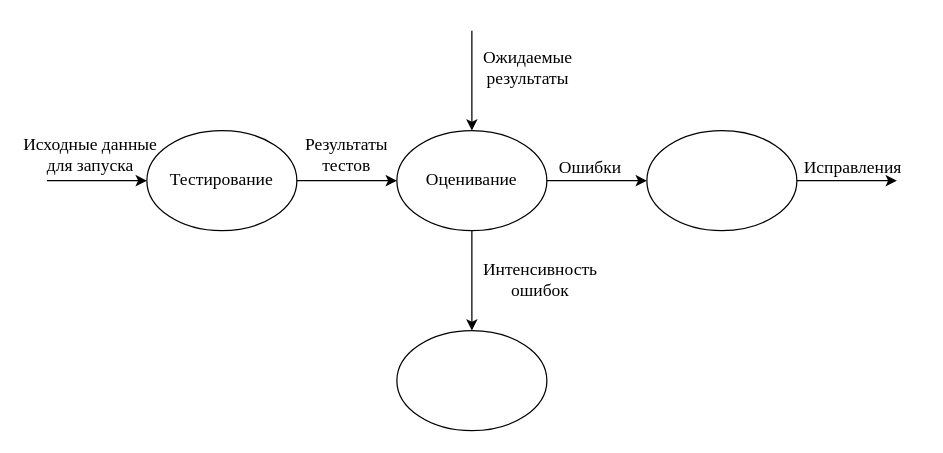
Some shapes in this 943 by 453 pixel diagram are drawn without their labels. Here are the shapes that lost their labels. From the top down, the centre of each, then its label:
At point 721,180: "Отладка".
At point 471,380: "Модель надёжности".
